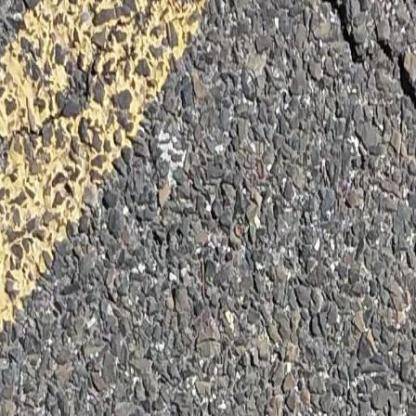Cracks: (297, 0, 414, 111)
